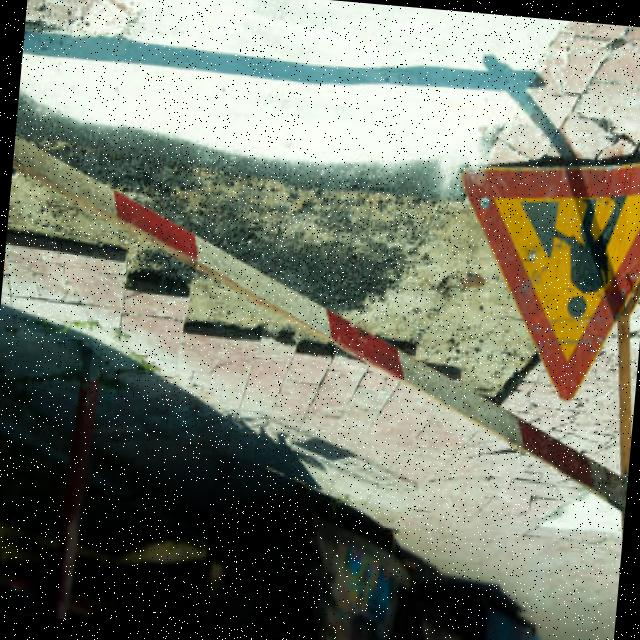road_work: (439, 149, 640, 414)
